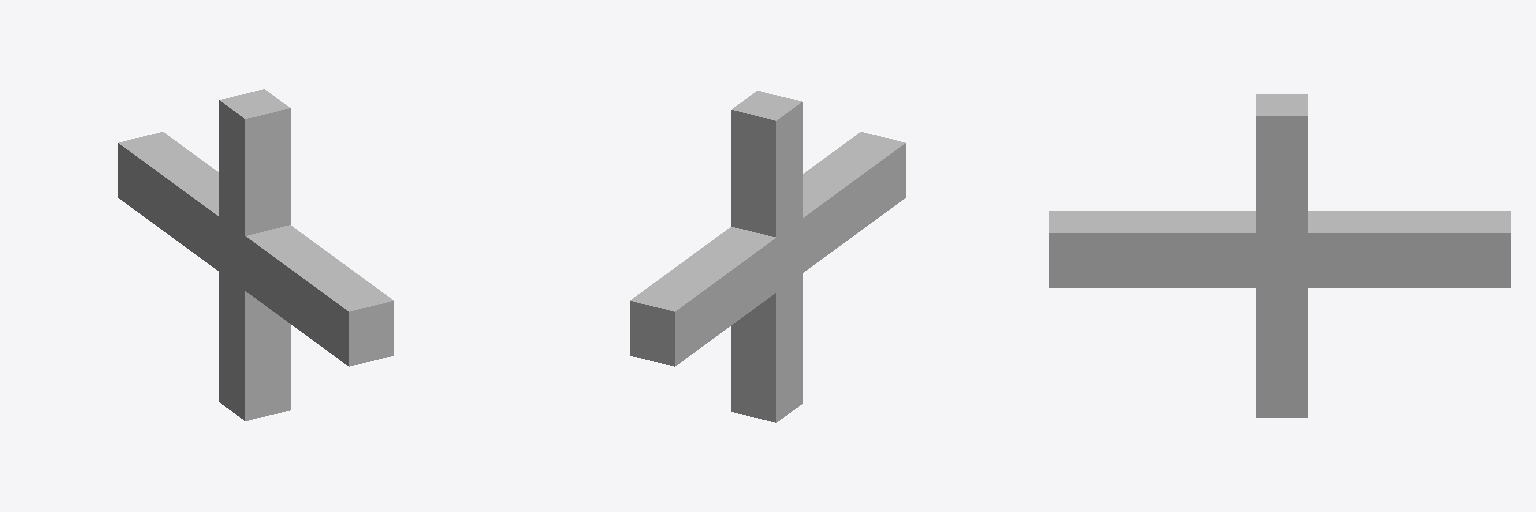
File: objeto.obj
The picture shows the model from 3 angles: view 1: azimuth 30°, elevation 25°; view 2: azimuth 150°, elevation 25°; view 3: azimuth 270°, elevation 25°; orthographic projection.
Parts seen in each view (by area): view 1: Cube; view 2: Cube; view 3: Cube.
Part boxes in pixels (left/top/right/bottom): Cube: left=118, top=89, right=393, bottom=420; Cube: left=630, top=91, right=905, bottom=422; Cube: left=1049, top=94, right=1510, bottom=417.
Size of the model in its own units: 2 by 12.78 by 17.71.